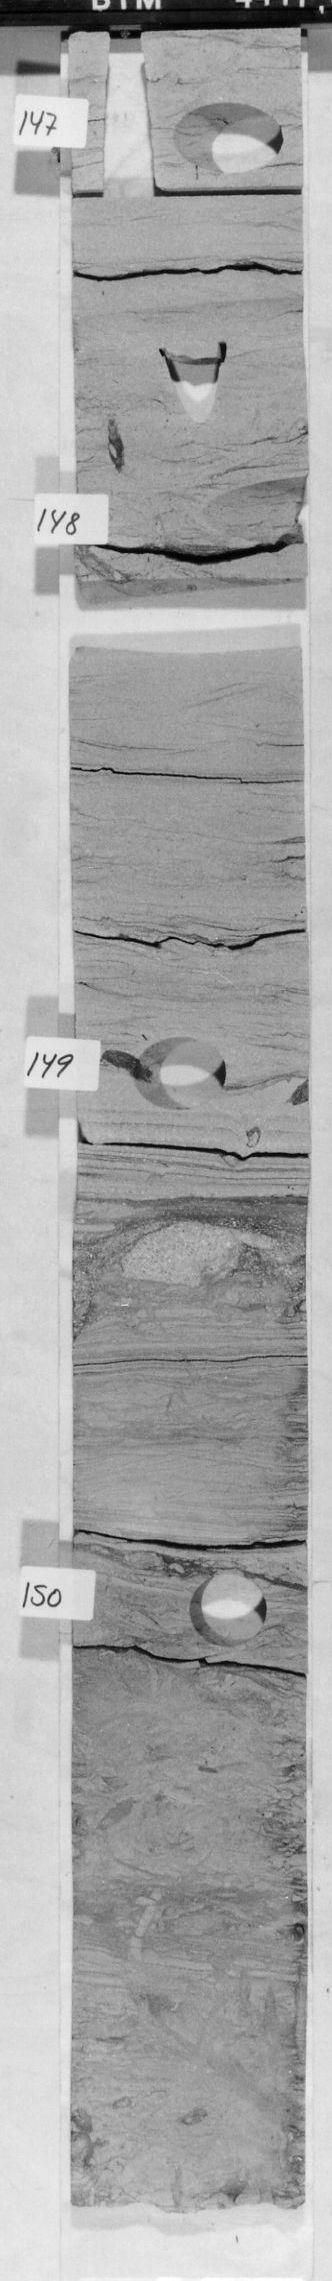hplug: (169, 96, 288, 175), (127, 1033, 234, 1116), (178, 1565, 280, 1651), (194, 471, 307, 546)
vplug: (98, 35, 165, 196), (154, 327, 236, 429)
